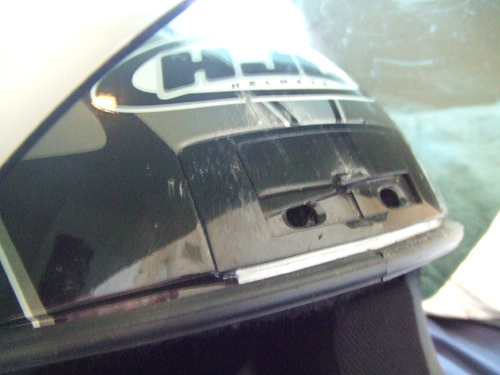helmet: (30, 42, 487, 337)
